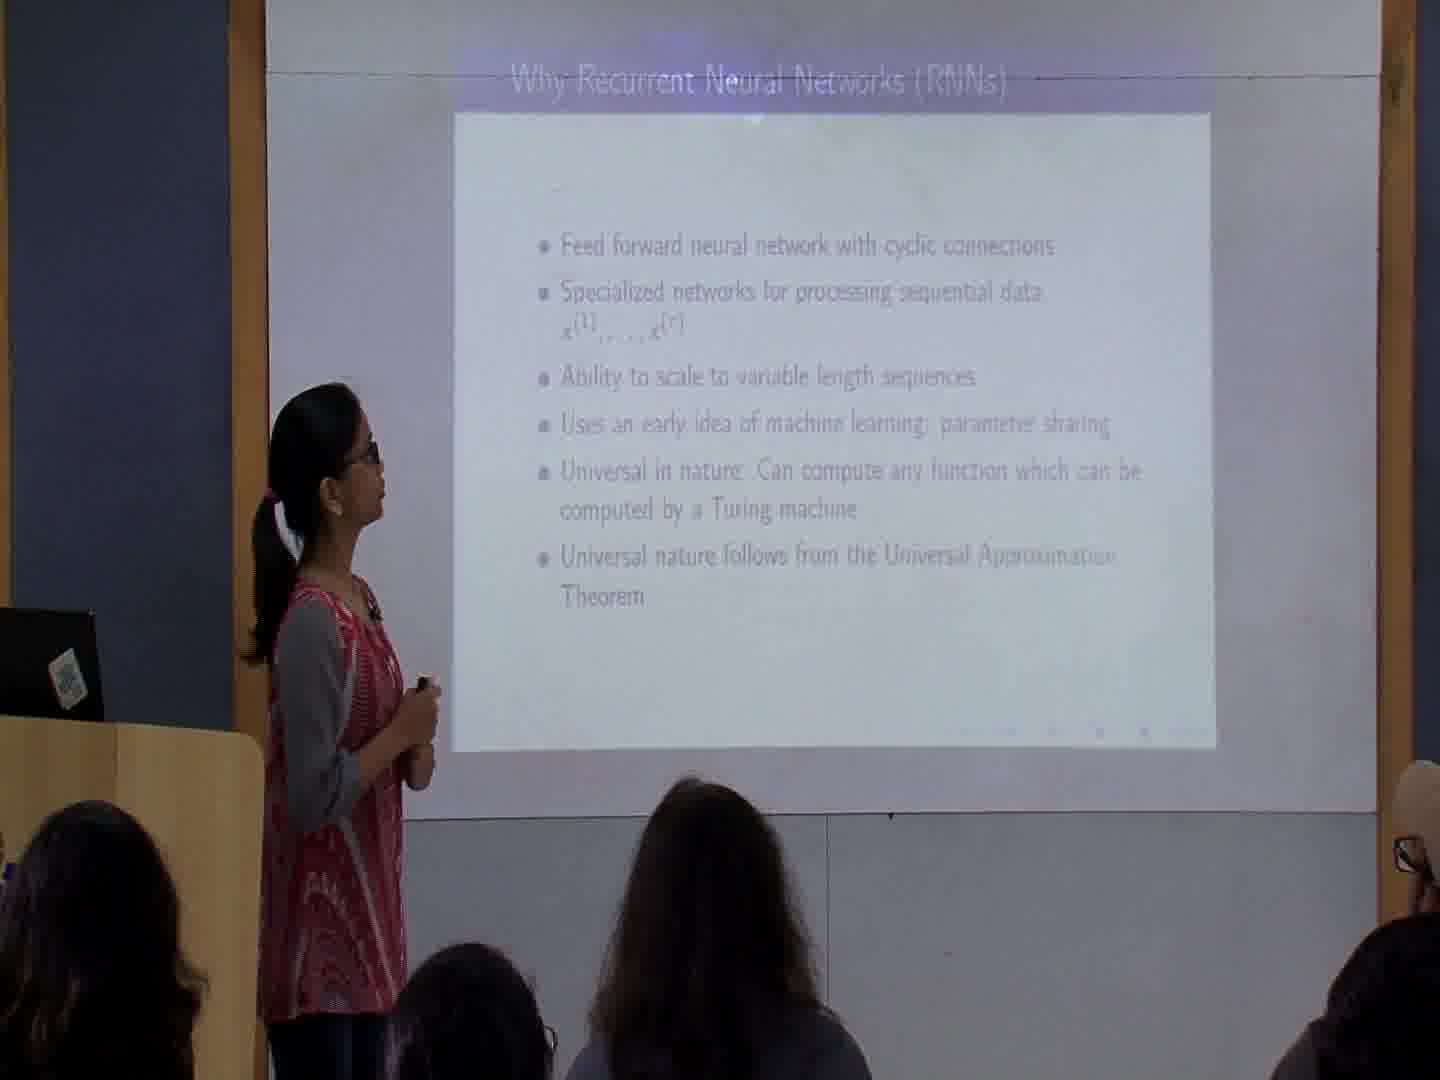slide: (454, 48, 1215, 746)
